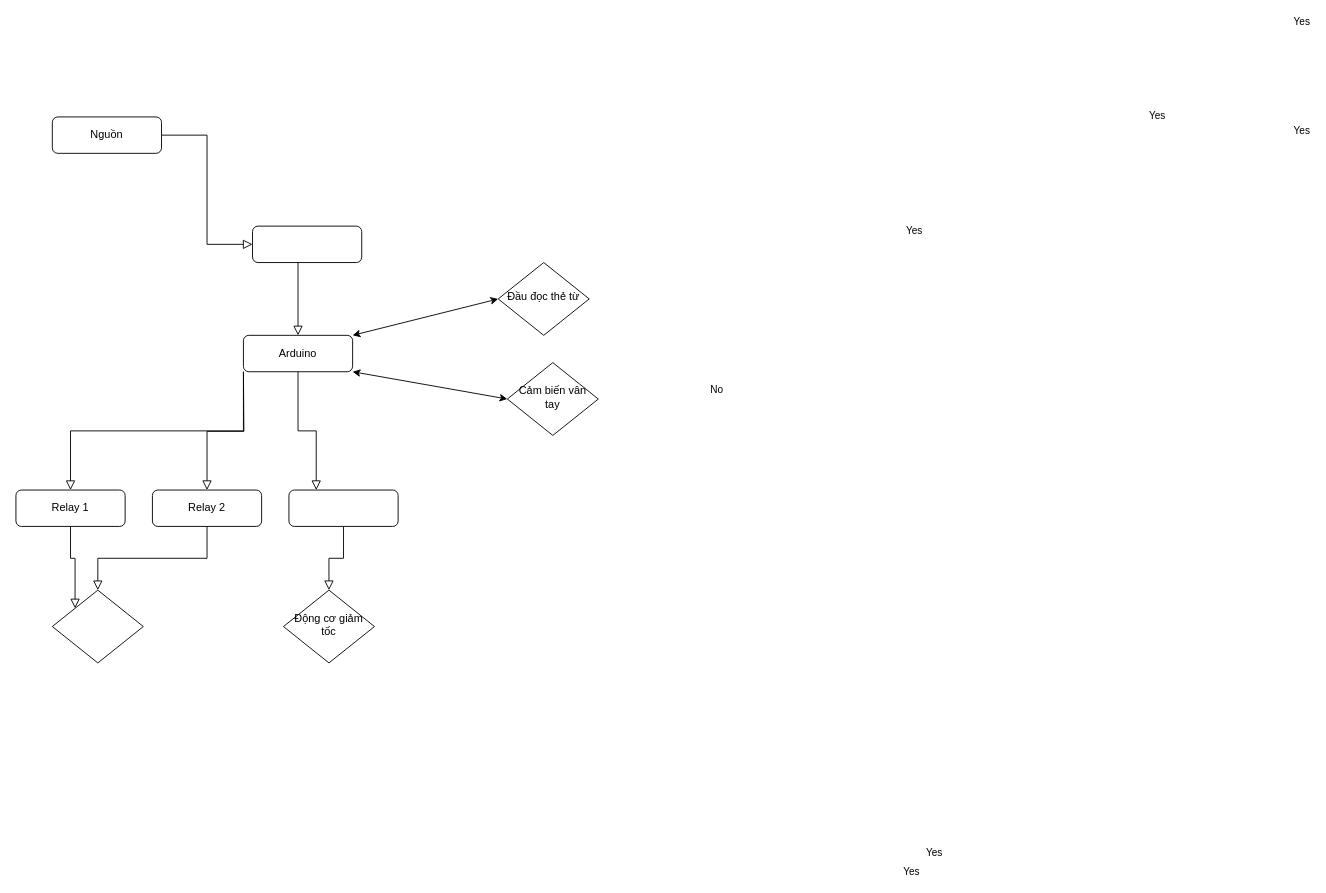
Image size: 1326x893. Some labels were removed from this diagram. The box of each missing label's shape, as (x1, y1, x2, y2) in pixels:
Module giảm áp: (252, 225, 362, 263)
Relay 3: (288, 489, 398, 526)
Xi lanh điện: (51, 589, 143, 663)
